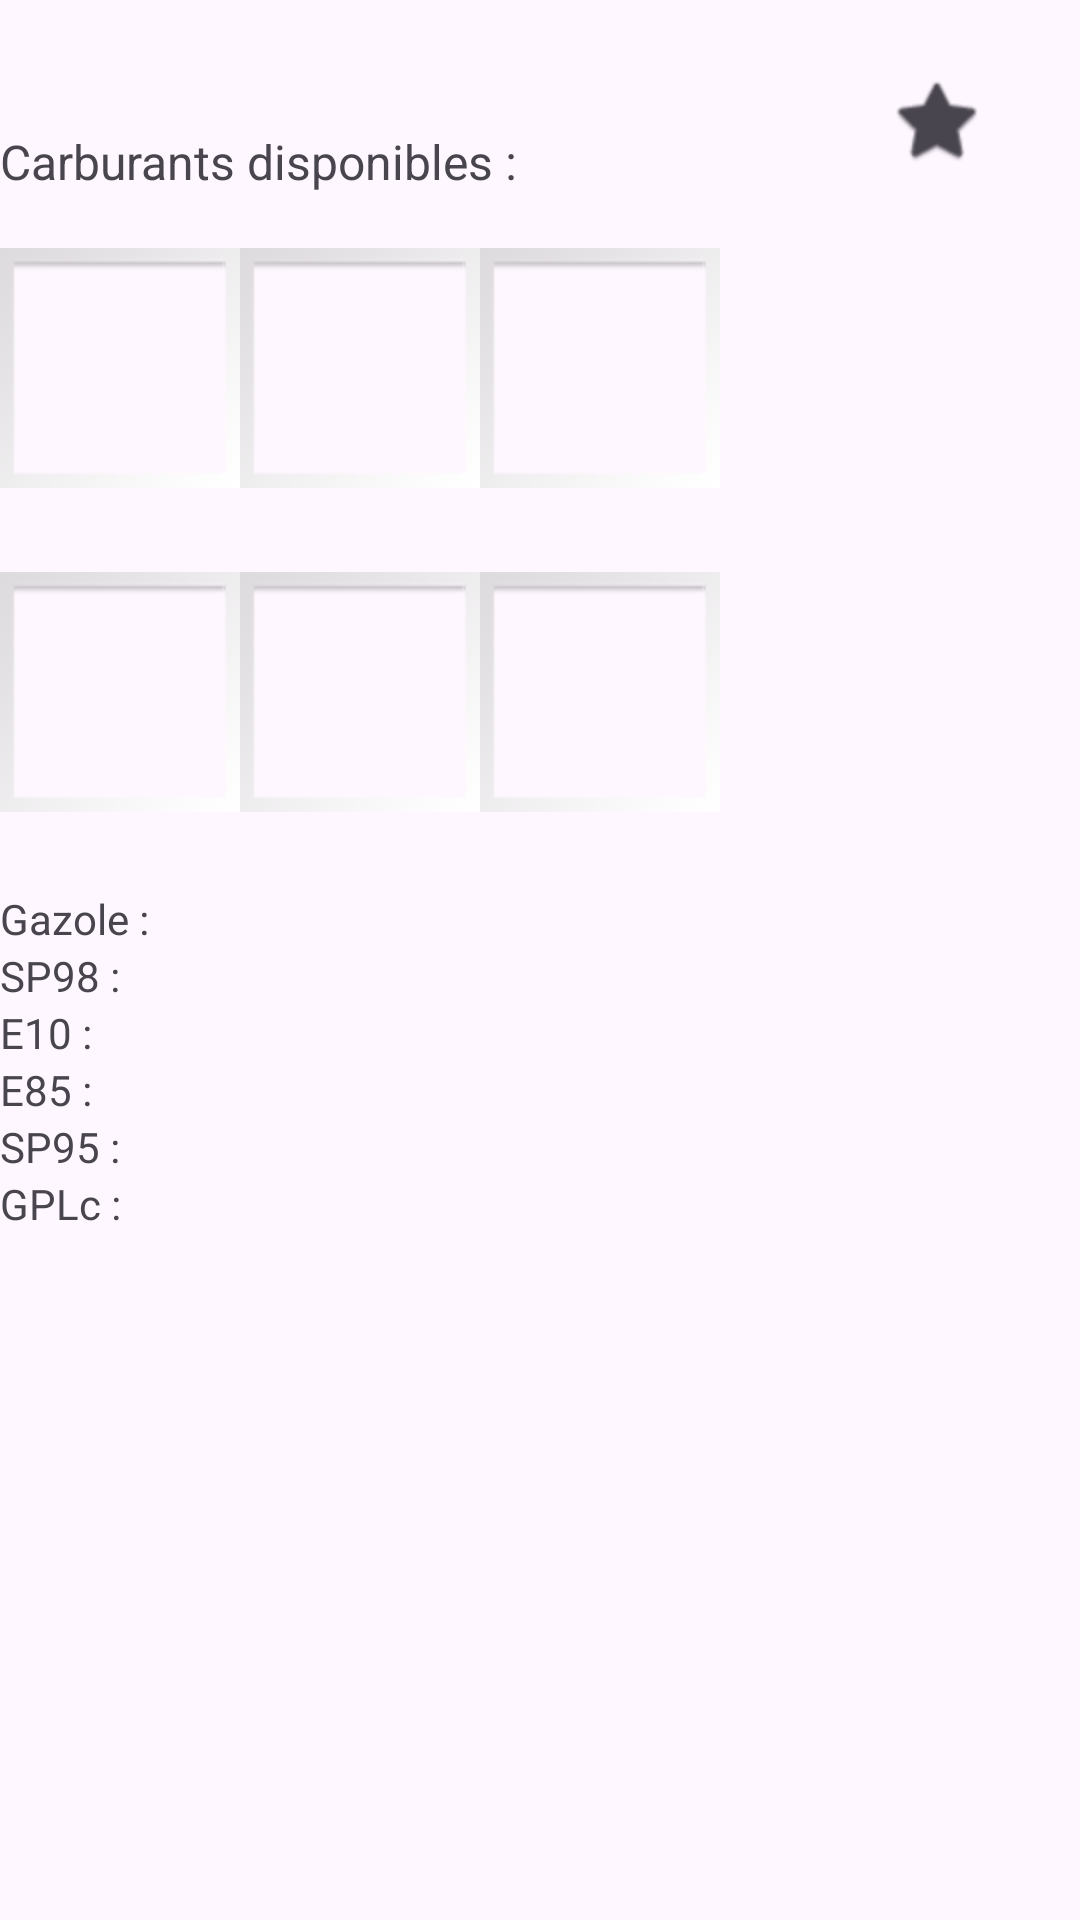

Icons on this 1080×1920 Android screen, each with its box as [x1, y1, x2, y2]:
star: [897, 82, 977, 159]
